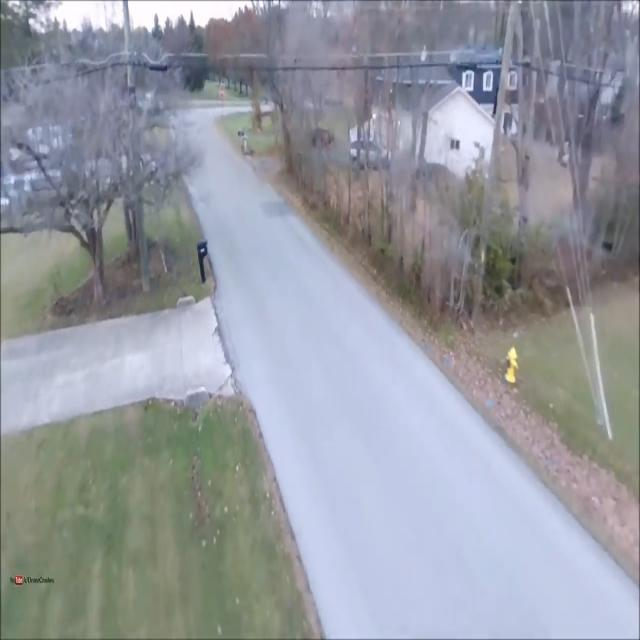Pole: (464, 0, 527, 344), (111, 2, 164, 307)
Tree: (0, 42, 188, 311), (399, 4, 456, 300), (268, 13, 328, 207), (348, 5, 378, 246)
Vehicle: (347, 135, 395, 176)
